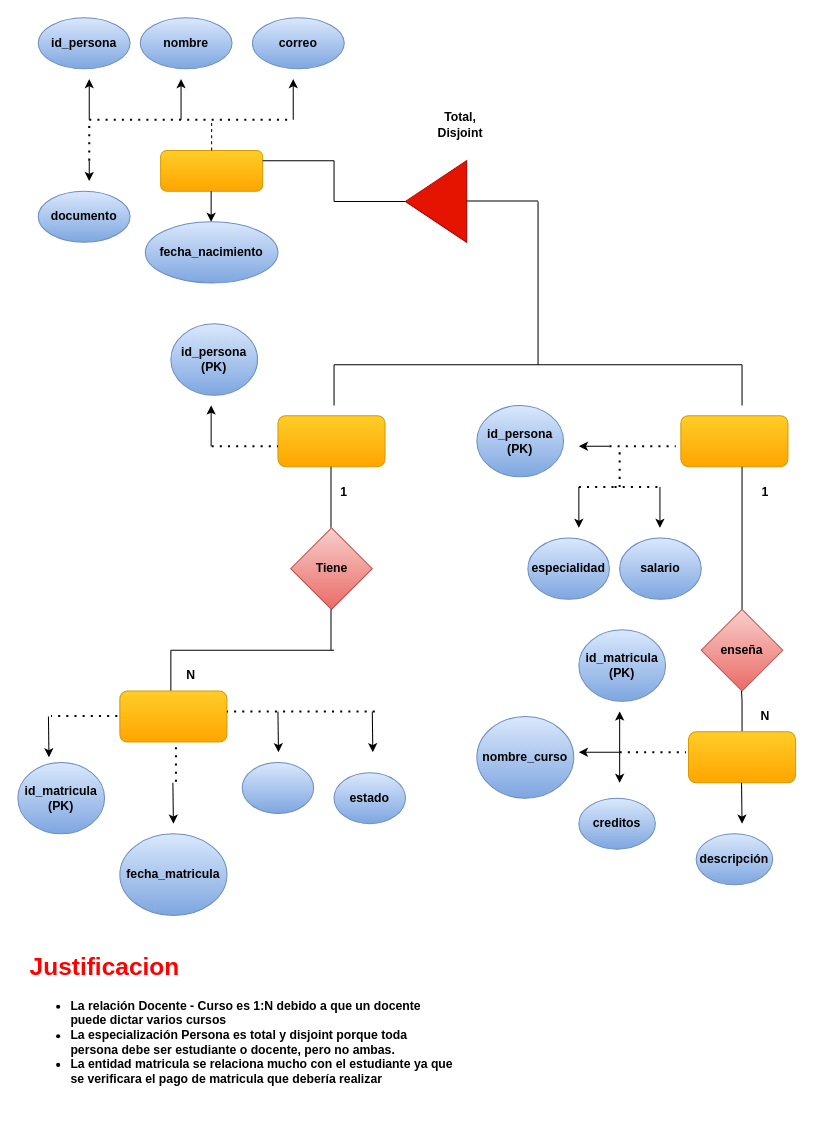
Some shapes in this 814 by 1140 pixel diagram are drawn without their labels. The shapes that lost their labels are listed below. From the top down, each one's centre as x and y in pixels, then its label:
At pixel 211 170: "Persona".
At pixel 331 441: "Estudiante".
At pixel 734 441: "Docente".
At pixel 173 716: "Matricula".
At pixel 741 757: "Curso".
At pixel 277 787: "semestre".
